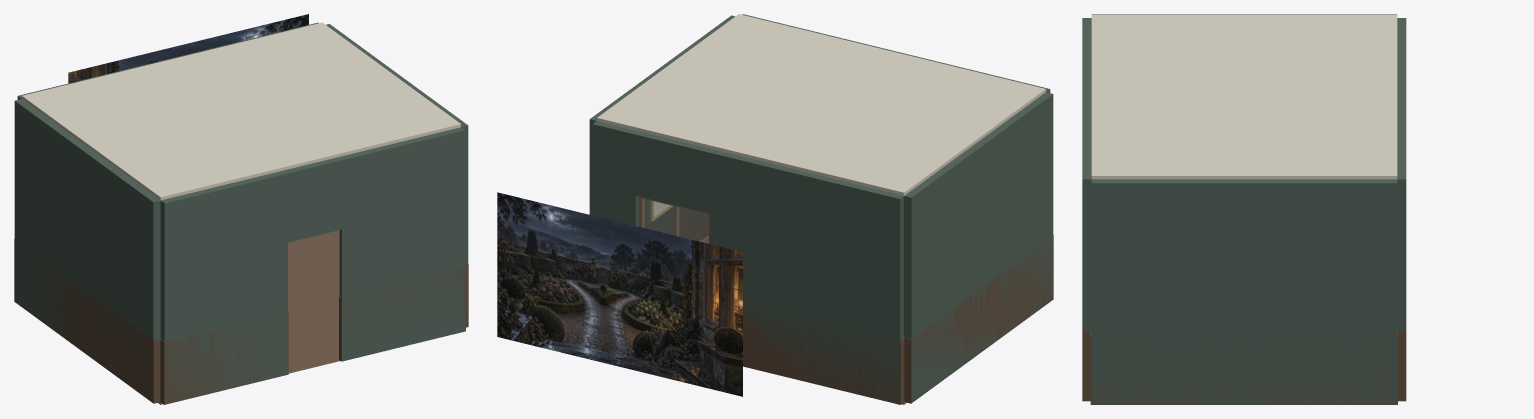
Rendered from room_study.glb.
3 renders of one model, left to right at view 1: azimuth 30°, elevation 25°; view 2: azimuth 150°, elevation 25°; view 3: azimuth 270°, elevation 25°, orthographic. The views are drawn at different scales.
Visible parts, largest first — view 1: ceiling, wall_left-col, wall_front_l-col, wall_front_r-col, wall_left_panel, door, wall_front_l_panel, wall_front_top-col, backdrop_garden, wall_front_r_panel, wall_right-col; view 2: ceiling, backdrop_garden, wall_back_l-col, wall_left-col, wall_back_l_panel, wall_left_panel, wall_back_top-col, wall_back_r-col, wall_right-col, hs_window, wall_right_panel, window_frame; view 3: wall_right-col, ceiling, wall_right_panel, wall_front_r-col, wall_back_r-col, wall_back_l-col, wall_front_l-col, wall_front_r_panel, wall_back_r_panel.
Part boxes in pixels (x1=…): ceiling: x1=22, y1=22, x2=460, y2=200; wall_left-col: x1=14, y1=99, x2=160, y2=400; wall_front_l-col: x1=160, y1=170, x2=287, y2=404; wall_front_r-col: x1=338, y1=127, x2=465, y2=361; wall_left_panel: x1=14, y1=239, x2=160, y2=403; door: x1=288, y1=230, x2=339, y2=371; wall_front_l_panel: x1=160, y1=311, x2=288, y2=404; wall_front_top-col: x1=284, y1=157, x2=341, y2=242; backdrop_garden: x1=68, y1=14, x2=308, y2=83; wall_front_r_panel: x1=339, y1=268, x2=465, y2=361; wall_right-col: x1=326, y1=24, x2=468, y2=264; ceiling: x1=597, y1=14, x2=1045, y2=195; backdrop_garden: x1=497, y1=192, x2=742, y2=396; wall_back_l-col: x1=709, y1=149, x2=903, y2=404; wall_left-col: x1=904, y1=92, x2=1053, y2=402; wall_back_l_panel: x1=743, y1=303, x2=904, y2=404; wall_left_panel: x1=904, y1=235, x2=1053, y2=403; wall_back_top-col: x1=635, y1=131, x2=713, y2=213; wall_back_r-col: x1=592, y1=121, x2=639, y2=226; wall_right-col: x1=589, y1=15, x2=734, y2=241; hs_window: x1=643, y1=199, x2=708, y2=243; wall_right_panel: x1=645, y1=207, x2=708, y2=241; window_frame: x1=638, y1=196, x2=709, y2=243; wall_right-col: x1=1091, y1=179, x2=1397, y2=404; ceiling: x1=1091, y1=14, x2=1397, y2=179; wall_right_panel: x1=1090, y1=332, x2=1397, y2=404; wall_front_r-col: x1=1082, y1=113, x2=1091, y2=331; wall_back_r-col: x1=1397, y1=156, x2=1406, y2=331; wall_back_l-col: x1=1397, y1=18, x2=1406, y2=117; wall_front_l-col: x1=1082, y1=18, x2=1091, y2=83; wall_front_r_panel: x1=1082, y1=332, x2=1090, y2=401; wall_back_r_panel: x1=1398, y1=332, x2=1406, y2=401.
Bounding box in the file's own units: 5.82 × 3.3 × 5.72.
Materials: 19 (2 with a texture image).
